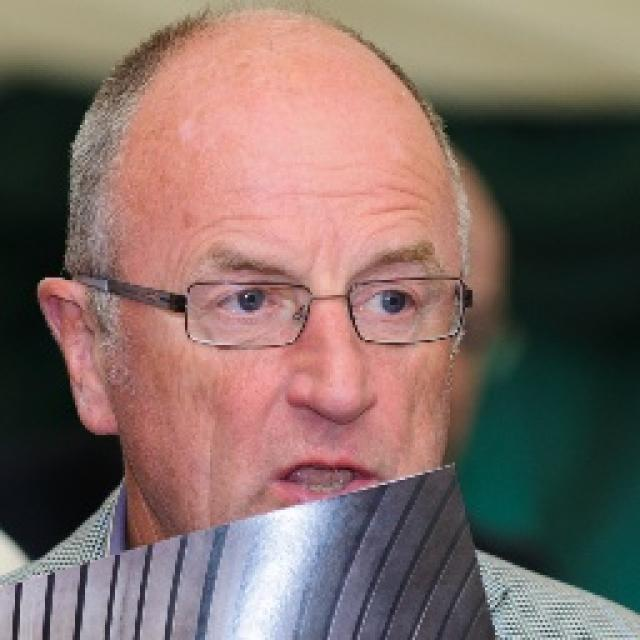earlobe: (36, 276, 120, 437)
